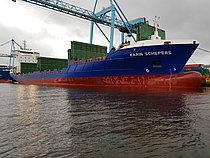Ship: (8, 22, 207, 94)
